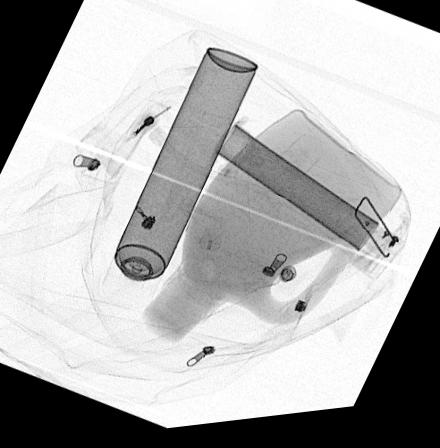Sprayer: (97, 50, 260, 316)
